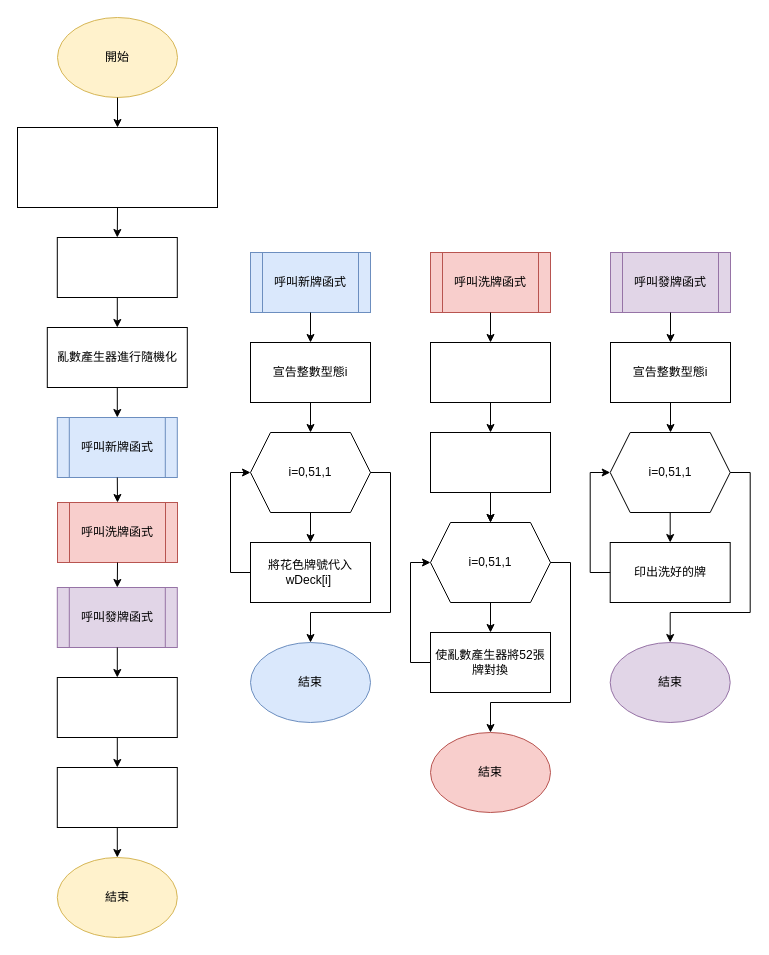
Some shapes in this 769 by 955 pixel diagram are drawn without their labels. Each missing label, with the centre of its shape:
回傳 0: (116,797)
定義card結構 定義Card為struct card型別的別名 定義新牌函式 定義洗牌函式 定義發牌函式: (117,167)
定義有52張牌 定義牌號陣列 定義花色陣列: (116,267)
宣告temp 為struct card的變數: (490,462)
宣告整數型態i,j: (490,372)
程式暫停: (116,707)
